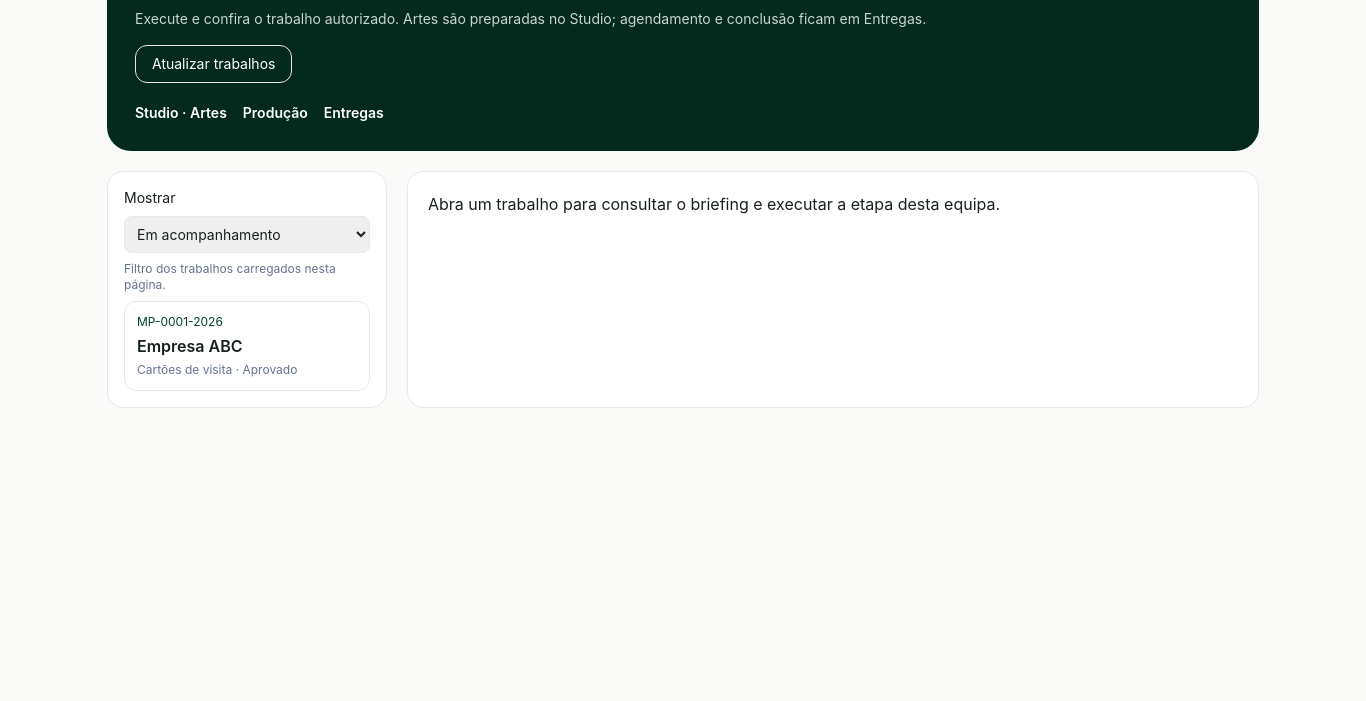
Test: Production workspace › shows the shared Reception briefing and client files without a second briefing step
Click the button "MP-0001-2026 Empresa ABC Cartões de visita · Aprovado" at (247, 346), box [124,301,370,391]
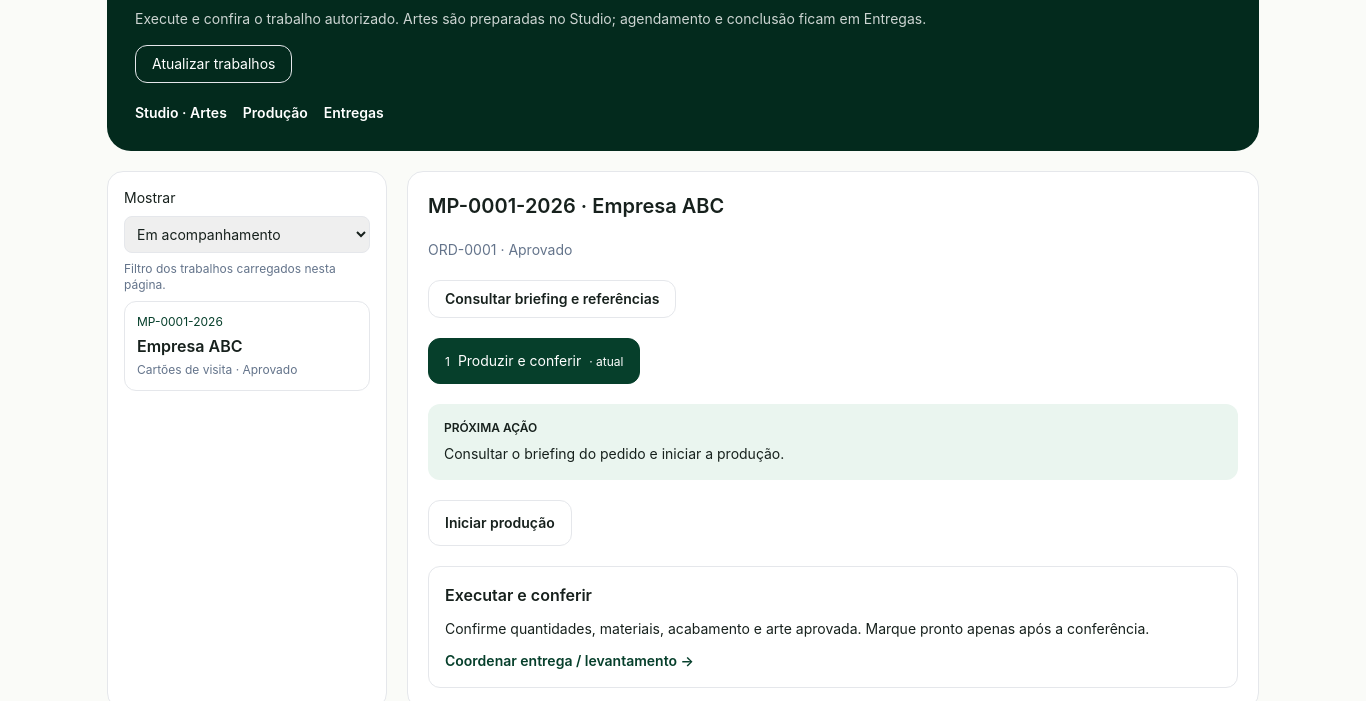
Click the button "Consultar briefing e referências" at (552, 299), box [428,280,676,318]
(page scrolled)
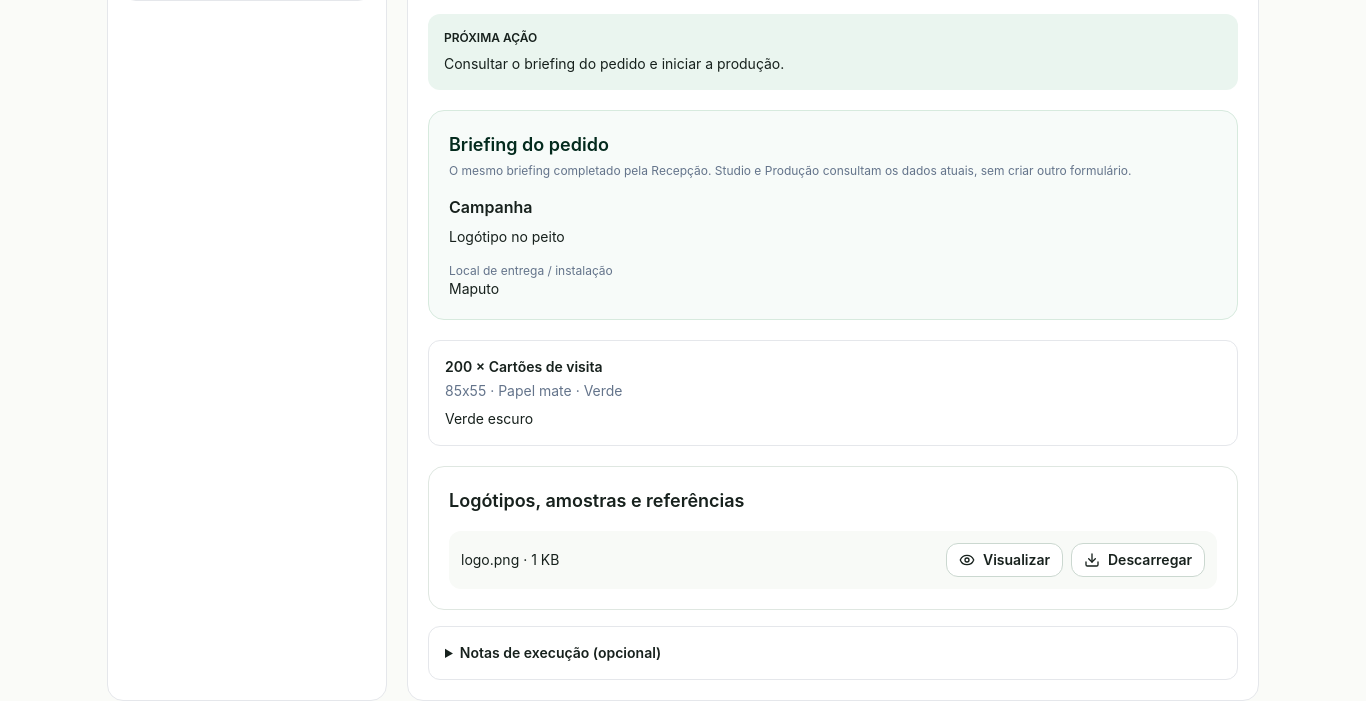
Expected: the text "Logótipo no peito" is shown, [449,228,565,245]
Expected: the text "Verde escuro" is shown, [445,410,533,427]
Expected: the button with aria-label "Visualizar logo.png" is shown, [946,543,1063,577]
